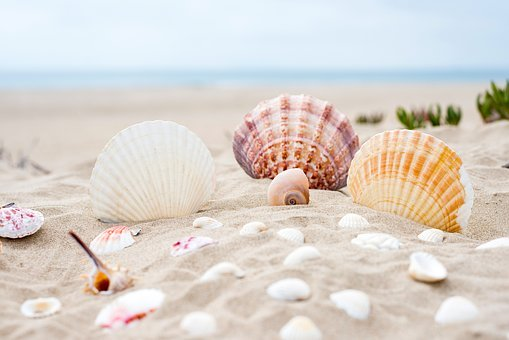beach: (3, 72, 504, 340)
sky: (1, 1, 506, 79)
